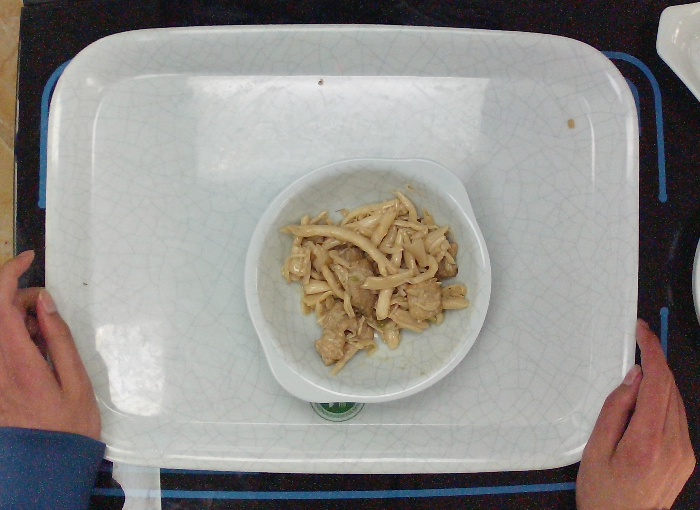JYsf-Shuang_Er_Wan: (238, 149, 492, 407)
